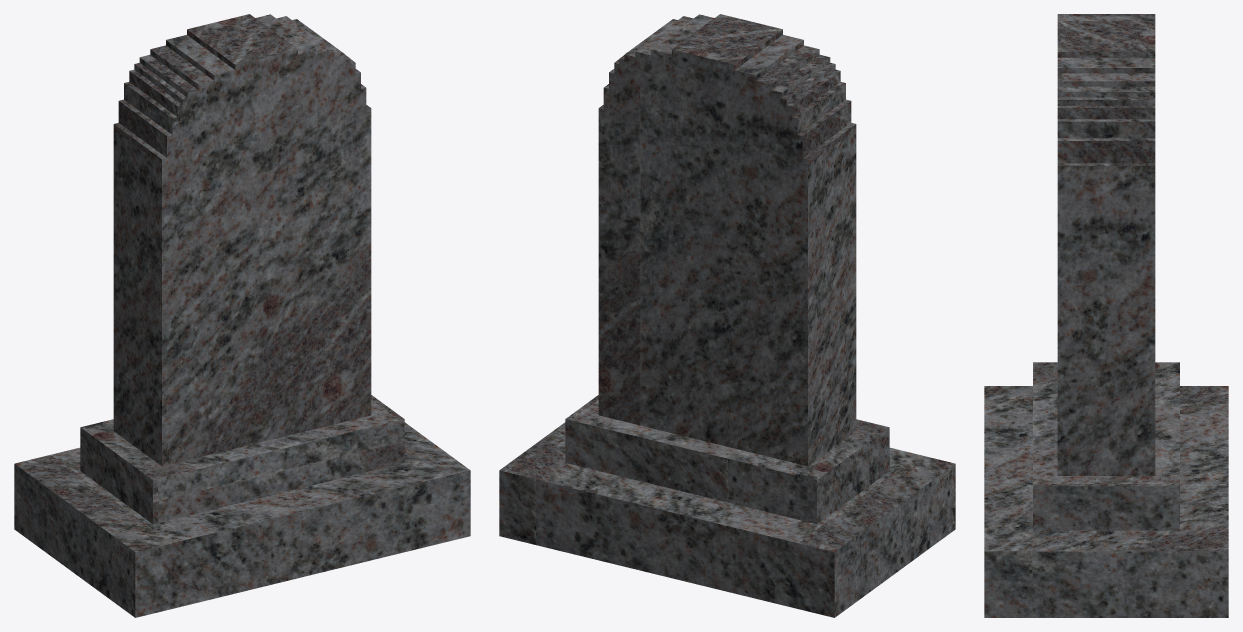
The model's file is headstone.obj.
3 renders of one model, left to right at view 1: azimuth 30°, elevation 25°; view 2: azimuth 150°, elevation 25°; view 3: azimuth 270°, elevation 25°, orthographic.
Visible parts, largest first — view 1: headstone; view 2: headstone; view 3: headstone.
Part boxes in pixels (left/top/right/bottom): headstone: left=14, top=14, right=470, bottom=617; headstone: left=499, top=14, right=955, bottom=617; headstone: left=984, top=14, right=1228, bottom=617.
Size of the model in its own units: 8.29 by 11.66 by 5.18.
1 material, 1 textured.
